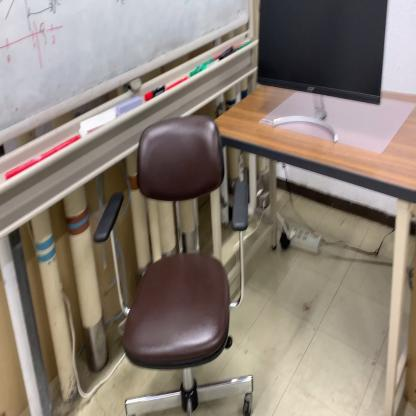chair: (92, 114, 255, 416)
